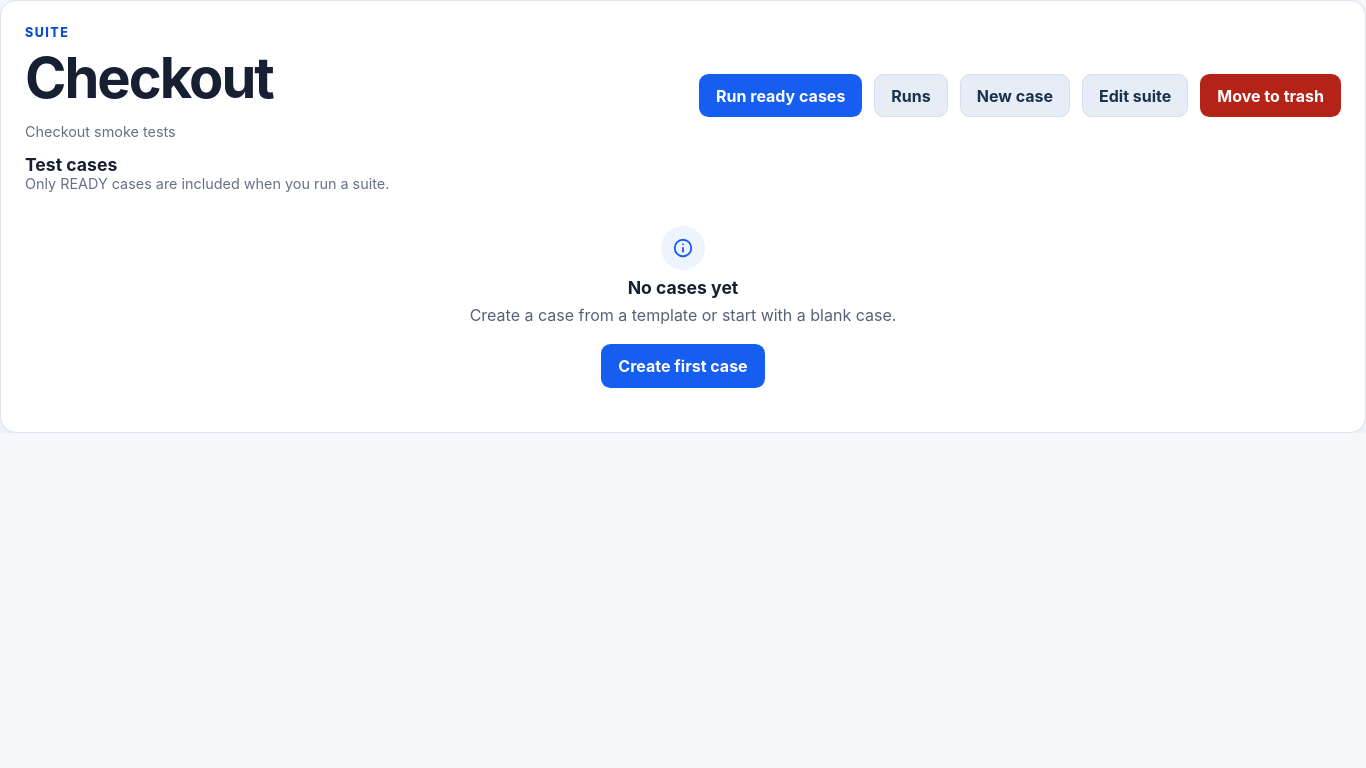
Test: suite recovery surfaces › shows distinct execution_worker_disabled guidance when a suite run cannot queue
The image size is (1366, 768).
Click the button "Run ready cases" at x=781, y=96, box [699,74,862,118]
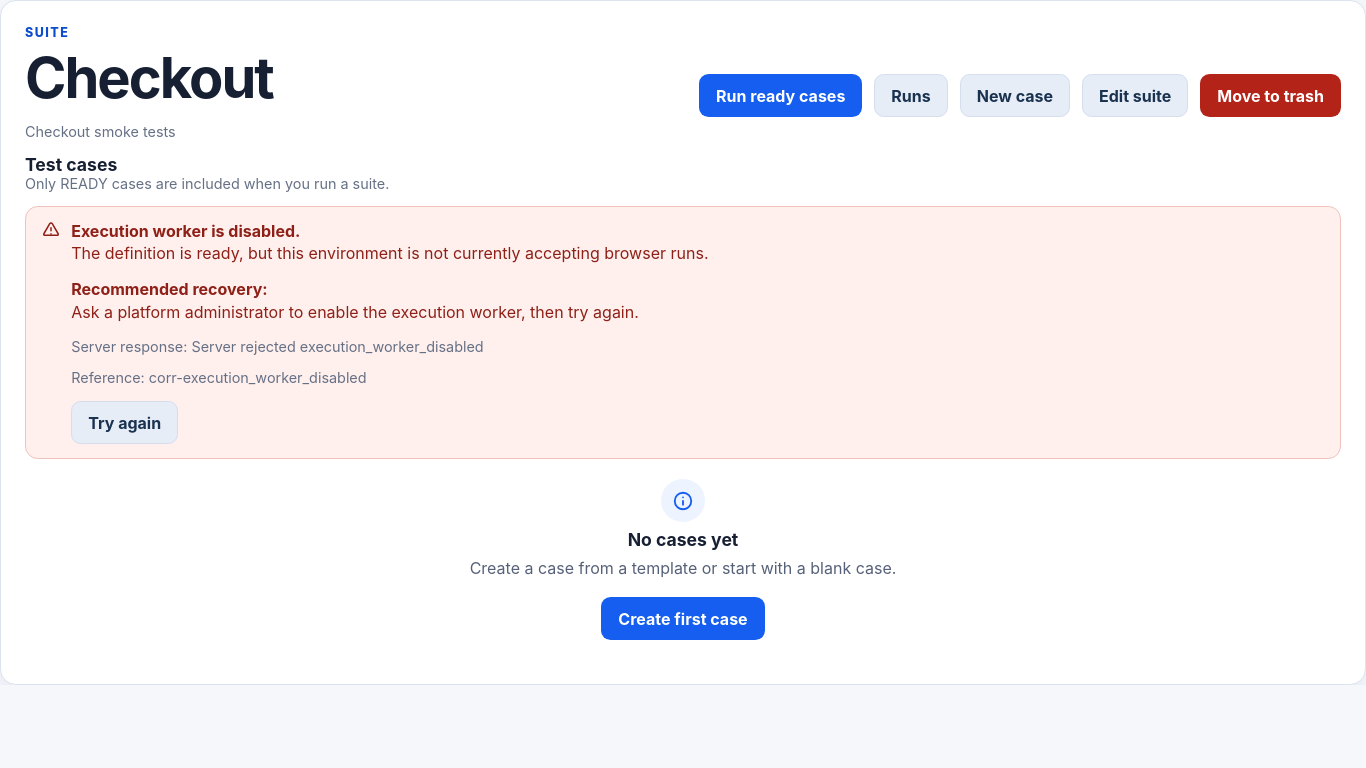
Expected: the message shows "Execution worker is disabled.", [71,221,300,241]
Expected: the message shows "Ask a platform administrator to enable the execution worker", [71,302,639,322]
Expected: the button "Try again" is shown, [71,401,178,444]
